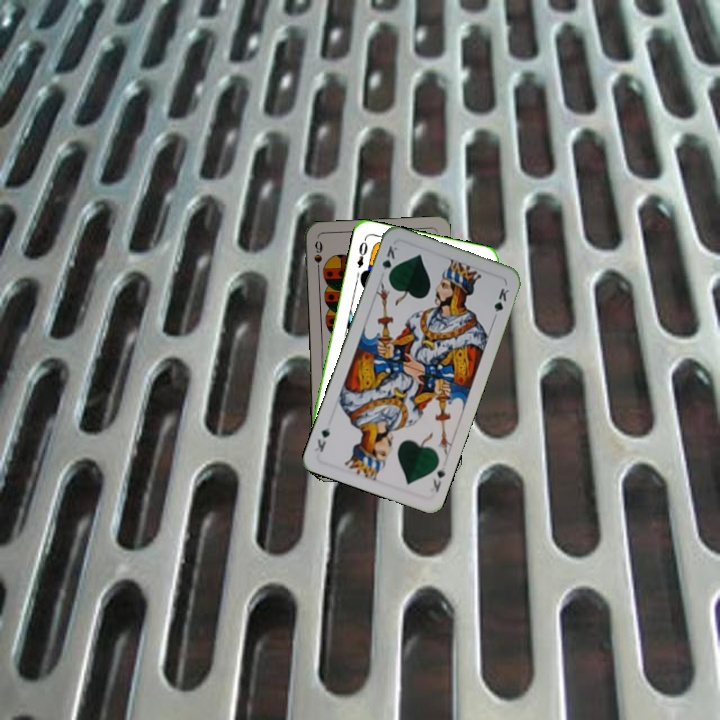EO: (353, 235, 370, 270)
GK: (378, 242, 401, 281), (429, 462, 448, 494)
S9: (310, 236, 325, 277)
